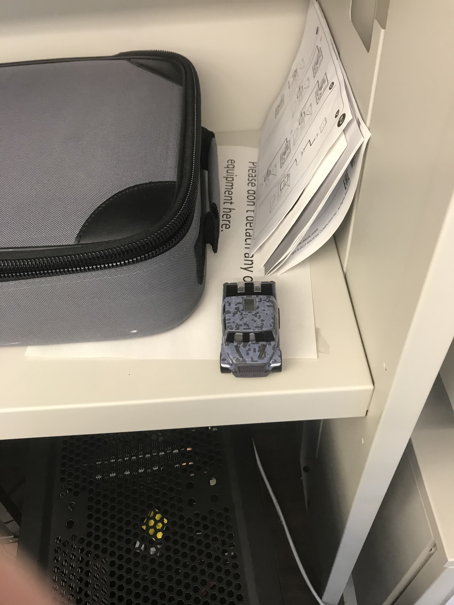MXT: (219, 281, 284, 378)
